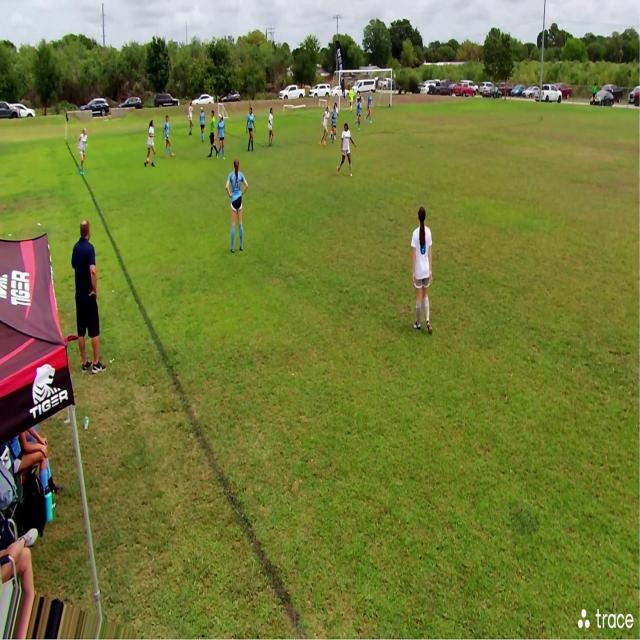ball: (146, 157, 150, 164)
team1: (228, 159, 248, 254), (216, 114, 228, 158), (163, 114, 174, 160), (246, 108, 254, 153), (200, 106, 208, 145), (331, 105, 339, 144), (355, 100, 363, 130), (367, 92, 373, 120)
team2: (408, 207, 437, 338), (336, 124, 356, 178), (147, 122, 158, 170), (79, 127, 89, 172), (320, 108, 330, 148), (268, 108, 276, 149), (188, 102, 196, 139)
